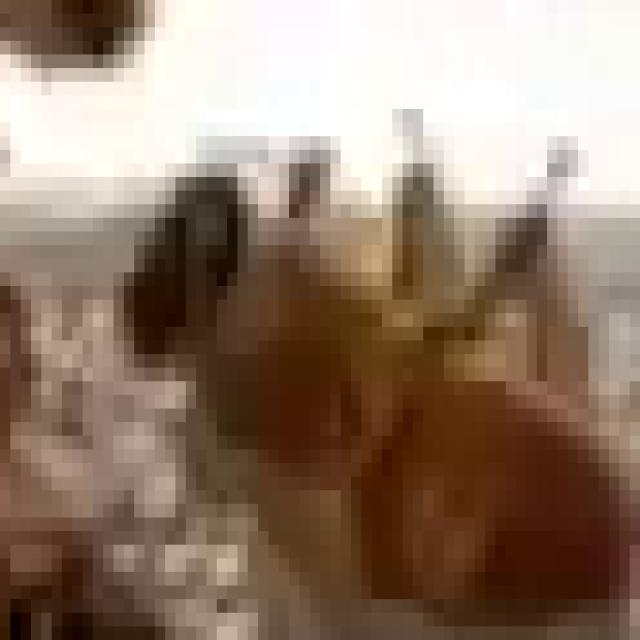honeybee: (132, 151, 581, 580)
